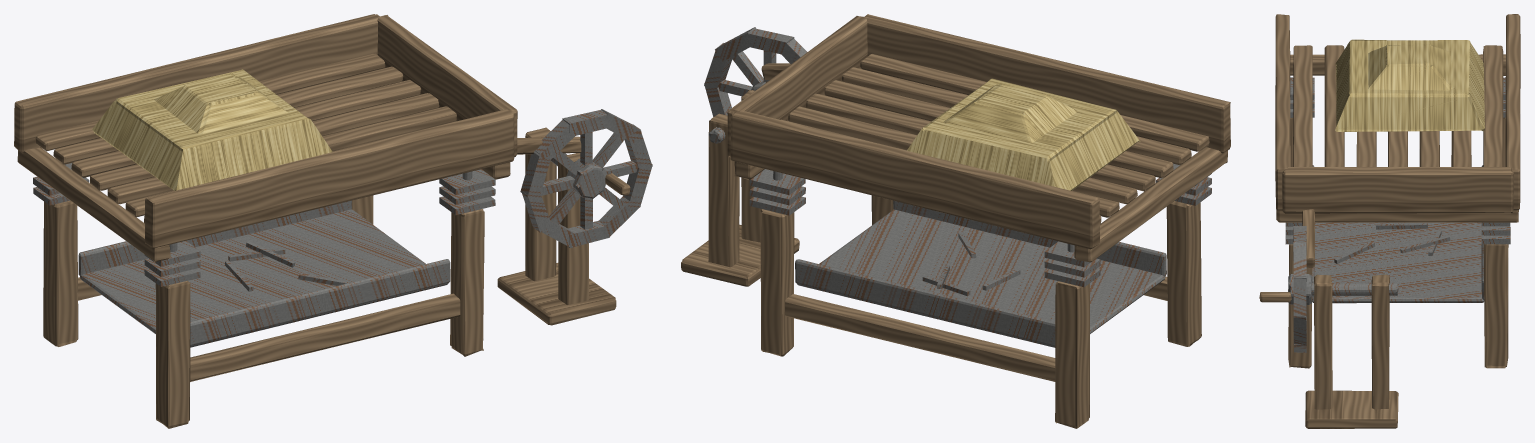
Rendered from shaker_table.glb.
3 renders of one model, left to right at view 1: azimuth 30°, elevation 25°; view 2: azimuth 150°, elevation 25°; view 3: azimuth 270°, elevation 25°, orthographic. The views are drawn at different scales.
Parts seen in each view (by area): view 1: ShakerTable; view 2: ShakerTable; view 3: ShakerTable.
Part boxes in pixels (x1,y1,x2,y2): ShakerTable: (14, 14, 652, 428); ShakerTable: (681, 14, 1230, 428); ShakerTable: (1259, 14, 1520, 428).
Size of the model in its own units: 2.52 by 1.24 by 1.27.
3 materials, 3 textured.
